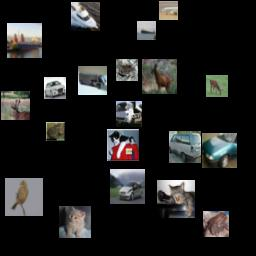airplane: (159, 1, 178, 20)
automobile: (110, 169, 145, 204), (202, 133, 237, 168), (169, 131, 201, 163), (44, 77, 66, 99)
bird: (5, 178, 43, 216)
cat: (157, 180, 195, 218), (107, 129, 139, 161), (59, 206, 91, 238)
deer: (142, 59, 177, 94), (1, 91, 30, 120), (206, 75, 228, 97)
frog: (203, 211, 229, 237), (116, 59, 138, 81), (46, 122, 65, 141)
ship: (7, 23, 42, 58), (71, 2, 100, 31), (137, 21, 156, 40)
truck: (78, 66, 107, 95), (116, 101, 142, 127)
